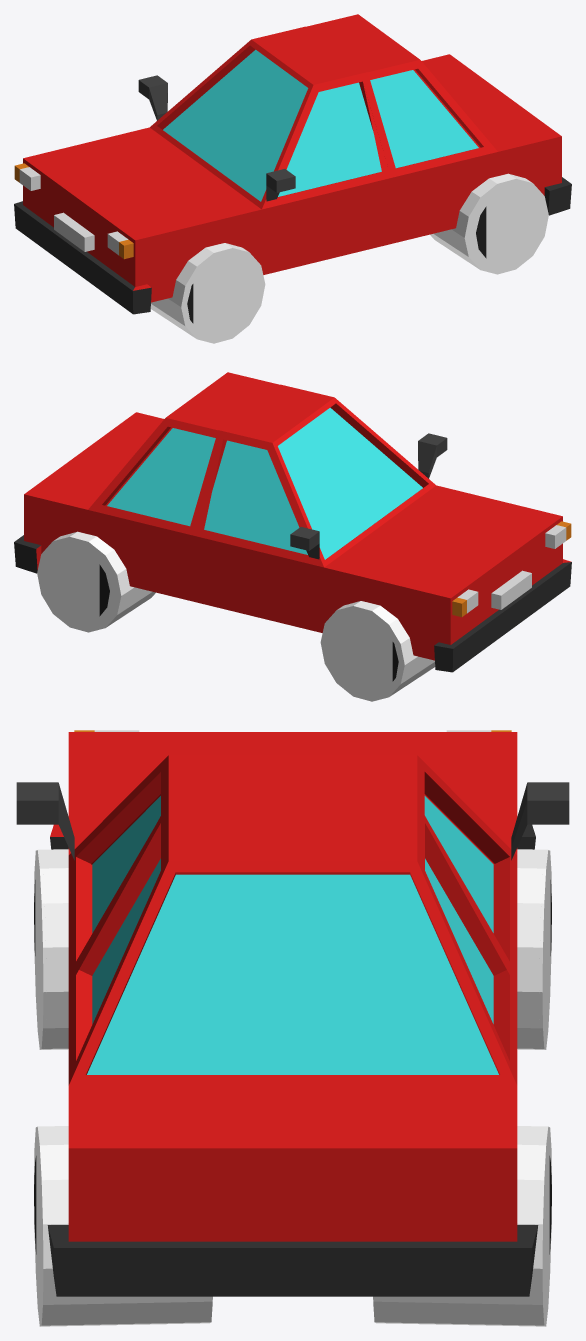
File: Low_Poly_Car.glb
3 views of the same model, one above another, from view 1: azimuth 30°, elevation 25°; view 2: azimuth 150°, elevation 25°; view 3: azimuth 270°, elevation 25° (orthographic). The views are drawn at different scales.
Parts seen in each view (by area): view 1: Cube_0, Cylinder_3, Cylinder_002_5, Cube_002_8, Cube_001_7, Cube_003_9; view 2: Cube_0, Cylinder_3, Cylinder_002_5, Cube_002_8, Cube_001_7, Cube_003_9; view 3: Cube_0, Cylinder_002_5, Cylinder_004_6, Cylinder_3, Cube_002_8.
Boxes of the visible parts, x1,y1,x2,y2 form: Cube_0: [14, 14, 571, 314]; Cylinder_3: [150, 243, 265, 343]; Cylinder_002_5: [430, 173, 548, 274]; Cube_002_8: [138, 75, 295, 201]; Cube_001_7: [14, 163, 133, 259]; Cube_003_9: [54, 212, 94, 251]; Cube_0: [14, 372, 571, 672]; Cylinder_3: [320, 601, 435, 701]; Cylinder_002_5: [37, 531, 155, 632]; Cube_002_8: [290, 433, 447, 559]; Cube_001_7: [452, 521, 571, 617]; Cube_003_9: [491, 570, 531, 609]; Cube_0: [47, 732, 538, 1296]; Cylinder_002_5: [34, 1126, 551, 1326]; Cylinder_004_6: [41, 849, 544, 1049]; Cylinder_3: [34, 849, 551, 1049]; Cube_002_8: [16, 782, 569, 860].
Size of the model in its own units: 256 by 112 by 138.
